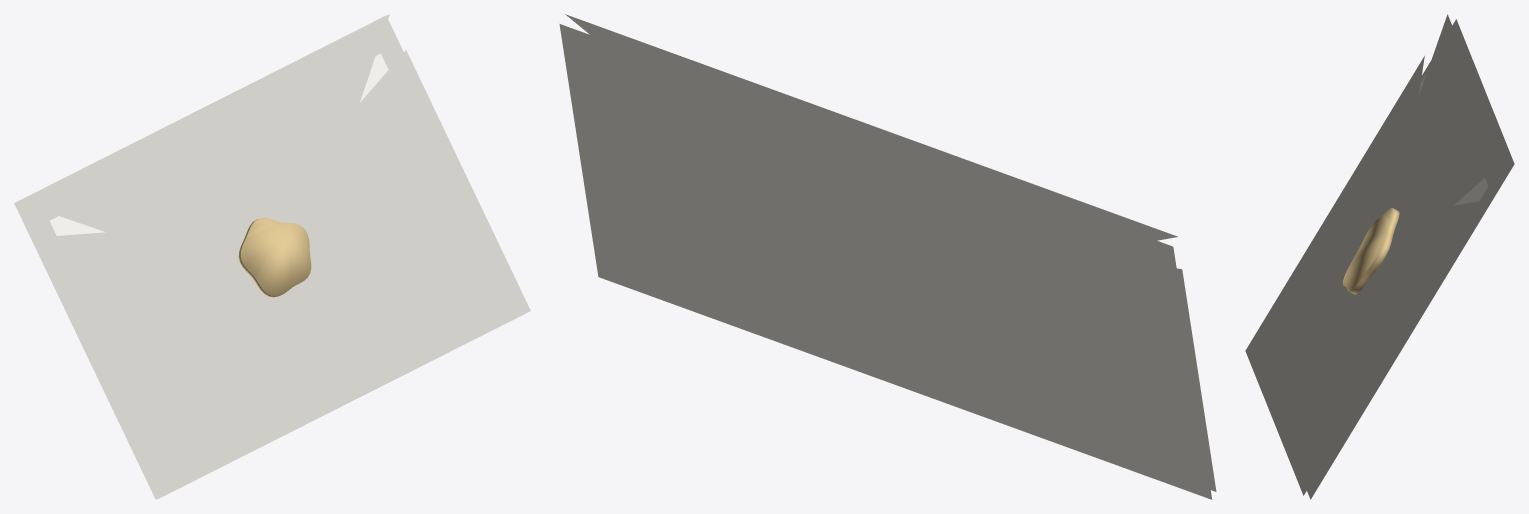
File: sobre-invitacion.glb
The picture shows the model from 3 angles, left to right: view 1: azimuth 30°, elevation 25°; view 2: azimuth 150°, elevation 25°; view 3: azimuth 270°, elevation 25°; orthographic projection. The views are drawn at different scales.
Parts seen in each view (by area): view 1: BolsilloFrontal, Solapa, SelloLacre, EspaldaSobre, CartaInterior; view 2: EspaldaSobre, Solapa, BolsilloFrontal; view 3: BolsilloFrontal, Solapa, EspaldaSobre, SelloLacre, CartaInterior.
Part boxes in pixels (<box>): BolsilloFrontal: <box>34,50,530,498</box>; Solapa: <box>18,14,389,283</box>; SelloLacre: <box>238,217,311,297</box>; EspaldaSobre: <box>14,15,403,499</box>; CartaInterior: <box>50,53,388,235</box>; EspaldaSobre: <box>559,24,1212,499</box>; Solapa: <box>565,14,1177,240</box>; BolsilloFrontal: <box>1176,268,1216,491</box>; BolsilloFrontal: <box>1245,56,1482,495</box>; Solapa: <box>1368,14,1505,280</box>; EspaldaSobre: <box>1307,19,1514,499</box>; SelloLacre: <box>1343,208,1399,294</box>; CartaInterior: <box>1419,74,1488,205</box>.
Size of the model in its own units: 2.47 by 1.7 by 1.05.
